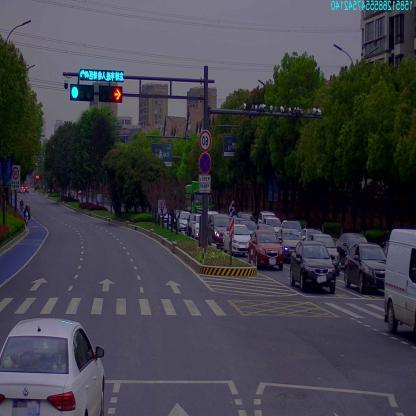traffic-light: (98, 85, 124, 106), (79, 71, 124, 82), (68, 86, 94, 102)
